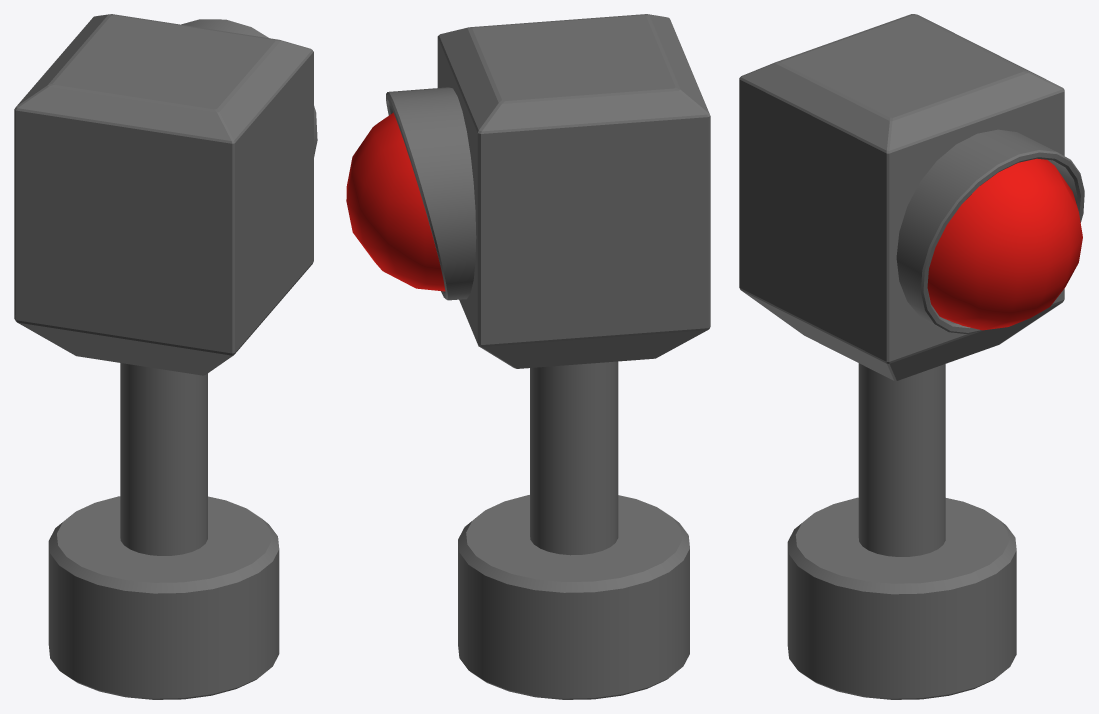
The model's file is Game_project1_assets_PuzzleIndicator.fbx.
3 views of the same model, side by side, from view 1: azimuth 30°, elevation 25°; view 2: azimuth 150°, elevation 25°; view 3: azimuth 270°, elevation 25° (orthographic).
Parts seen in each view (by area): view 1: body; view 2: body, light; view 3: body, light.
Part boxes in pixels (bbox=[...]): body: bbox=[14, 14, 317, 699]; body: bbox=[386, 14, 710, 699]; light: bbox=[346, 112, 445, 291]; body: bbox=[739, 14, 1084, 699]; light: bbox=[927, 158, 1082, 330].
Bounding box in the file's own units: 40.78 × 73.32 × 39.19.
